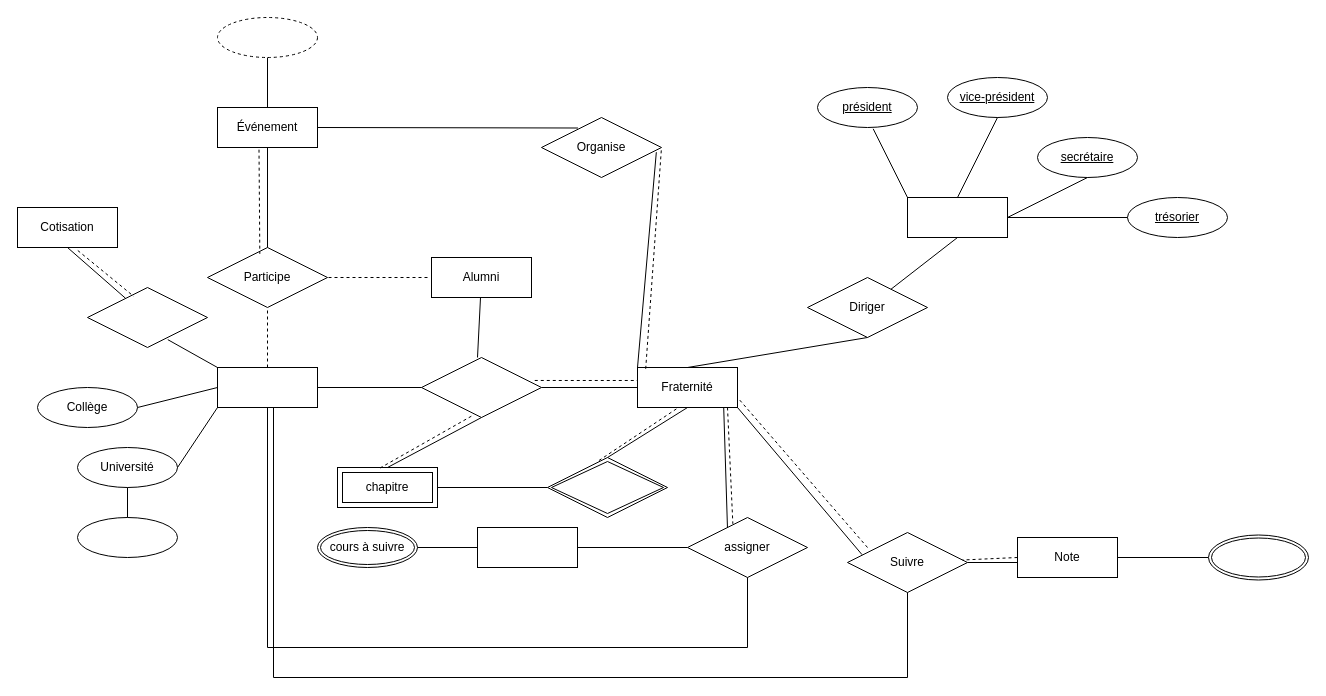
Image size: 1326x696. Some labels were removed from this diagram. The shapes that lost their labels are listed below. From the top down, each one's centre as x and y in pixels, then its label:
pixel 267 37: Sponsor
pixel 957 217: Conseil exécutif
pixel 147 317: Payer
pixel 267 387: Frère
pixel 481 387: Membre
pixel 607 487: Branche
pixel 127 537: Cycle
pixel 527 547: majeur
pixel 1258 557: moyenne générale
